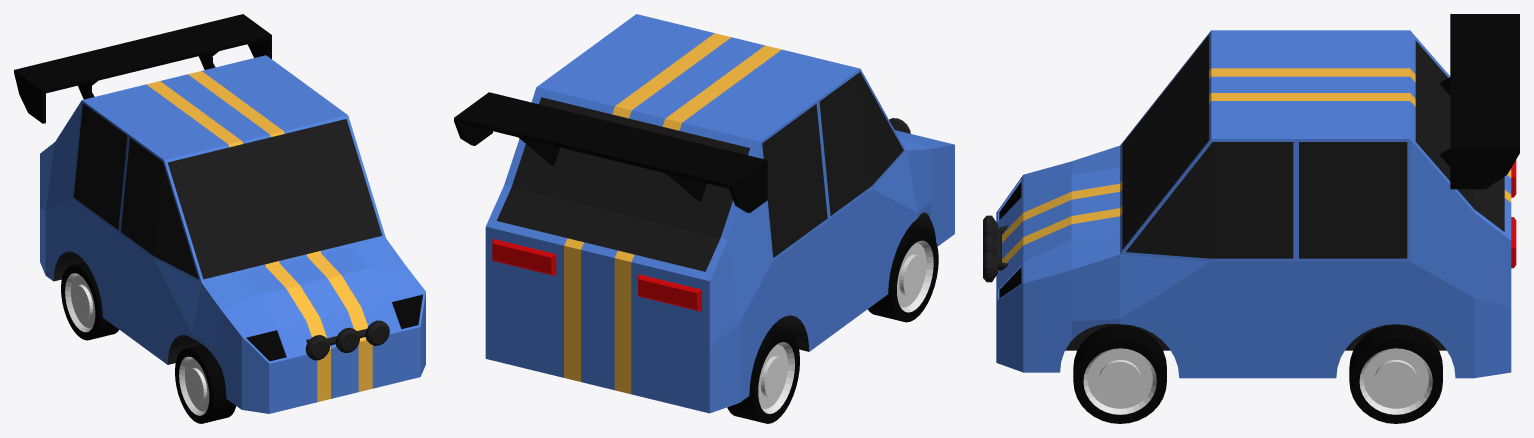
Rendered from temprallycar.fbx.
3 renders of one model, left to right at view 1: azimuth 30°, elevation 25°; view 2: azimuth 150°, elevation 25°; view 3: azimuth 270°, elevation 25°, orthographic. The views are drawn at different scales.
Visible parts, largest first — view 1: CarBody, Spoiler, FRWheel, BRWheel, LightBar; view 2: CarBody, Spoiler, BRWheel, FRWheel; view 3: CarBody, Spoiler, BLWheel, FLWheel, LightBar.
Boxes of the visible parts, bbox=[...] form: CarBody: bbox=[40, 55, 425, 413]; Spoiler: bbox=[14, 14, 271, 123]; FRWheel: bbox=[175, 344, 236, 423]; BRWheel: bbox=[61, 262, 119, 340]; LightBar: bbox=[305, 320, 389, 360]; CarBody: bbox=[485, 14, 954, 413]; Spoiler: bbox=[454, 92, 767, 212]; BRWheel: bbox=[727, 328, 799, 423]; FRWheel: bbox=[868, 227, 938, 322]; CarBody: bbox=[996, 30, 1516, 378]; Spoiler: bbox=[1440, 14, 1519, 189]; BLWheel: bbox=[1349, 325, 1442, 423]; FLWheel: bbox=[1073, 325, 1166, 423]; LightBar: bbox=[983, 215, 1008, 282].
Size of the model in its own units: 249 by 243 by 417.
